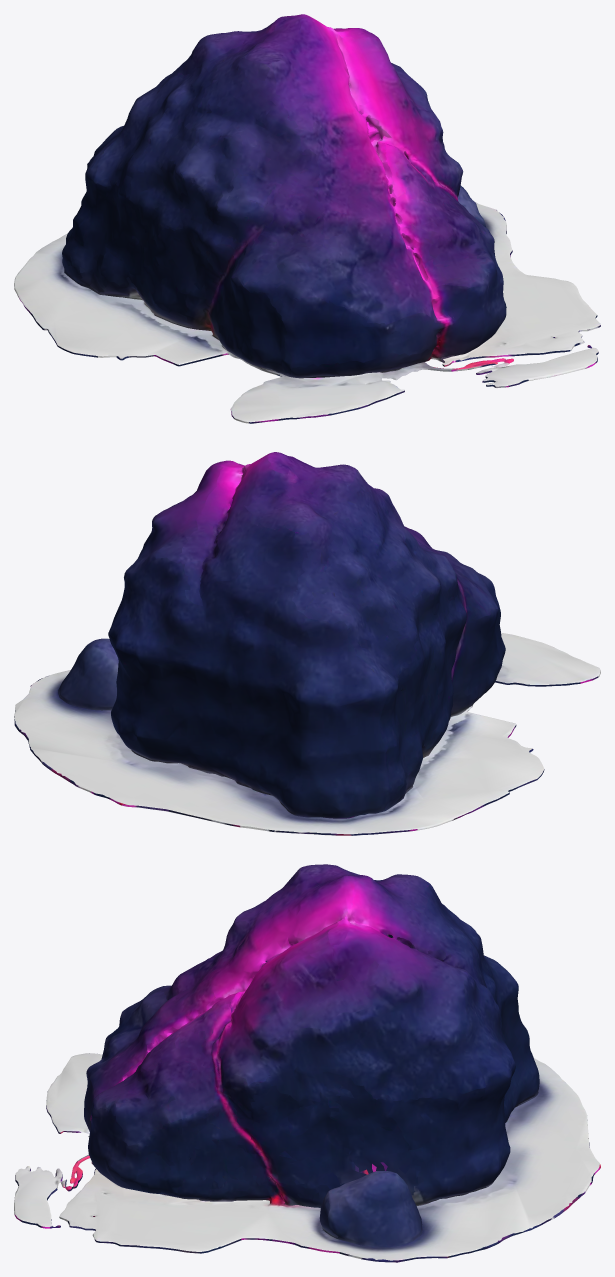
File: shore-stone-8-generated-2026-05-17T20-13-33-277Z.medium.glb
3 views of the same model, one above another, from view 1: azimuth 30°, elevation 25°; view 2: azimuth 150°, elevation 25°; view 3: azimuth 270°, elevation 25° (orthographic). The views are drawn at different scales.
Parts seen in each view (by area): view 1: temp_mesh.ply; view 2: temp_mesh.ply; view 3: temp_mesh.ply.
Part boxes in pixels (x1=…): temp_mesh.ply: x1=14, y1=14, x2=600, y2=423; temp_mesh.ply: x1=14, y1=452, x2=600, y2=835; temp_mesh.ply: x1=14, y1=864, x2=600, y2=1262.
Size of the model in its own units: 1.89 by 1.02 by 1.97.
Materials: 1 (1 with a texture image).
